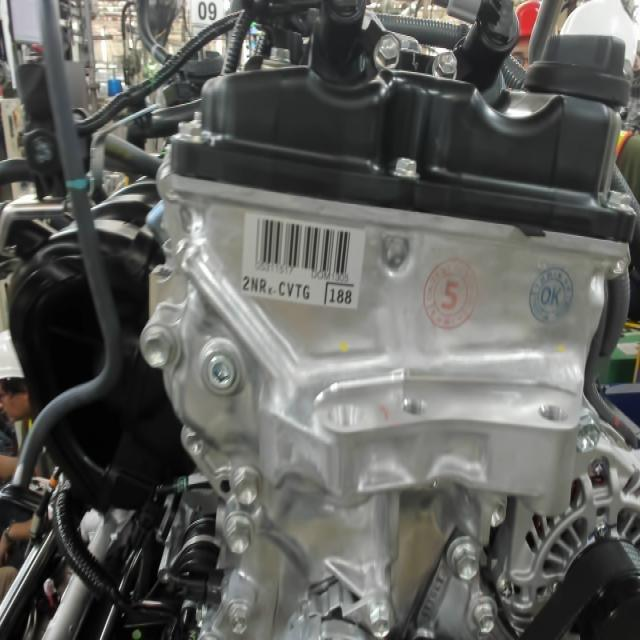Engine Assy-188: (324, 279, 356, 306)
Hose Canister-HJ: (66, 174, 93, 194)
